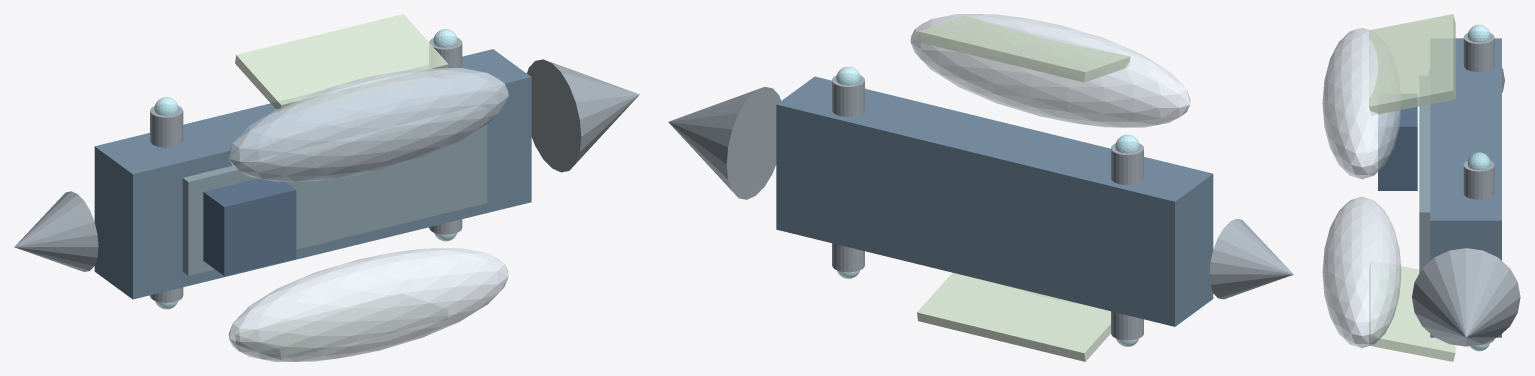
The model's file is SKYSHIP_01_WISP_RUNNER_wisp_runner.glb.
3 views of the same model, side by side, from view 1: azimuth 30°, elevation 25°; view 2: azimuth 150°, elevation 25°; view 3: azimuth 270°, elevation 25° (orthographic). The views are drawn at different scales.
Visible parts, largest first — view 1: aetherwood_hull, upper_deck, left_aether_cell, right_aether_cell, right_lift_sail, command_cabin, forward_ram, left_lift_sail, stern_finial, right_thruster_-0.52, right_thruster_0.52; view 2: aetherwood_hull, right_aether_cell, left_lift_sail, forward_ram, right_lift_sail, stern_finial, right_thruster_0.52, right_thruster_-0.52, left_thruster_-0.52, left_thruster_0.52; view 3: aetherwood_hull, left_aether_cell, forward_ram, right_aether_cell, right_lift_sail, left_lift_sail, command_cabin, upper_deck, right_thruster_0.52, right_thruster_-0.52, right_thruster_glow_-0.52, right_thruster_glow_0.52.
Boxes of the visible parts, left/top/right/bottom form: aetherwood_hull: left=94, top=49, right=531, bottom=299; upper_deck: left=182, top=105, right=487, bottom=275; left_aether_cell: left=228, top=248, right=508, bottom=361; right_aether_cell: left=228, top=68, right=508, bottom=181; right_lift_sail: left=235, top=14, right=448, bottom=113; command_cabin: left=203, top=175, right=296, bottom=275; forward_ram: left=527, top=59, right=639, bottom=172; left_lift_sail: left=235, top=294, right=447, bottom=359; stern_finial: left=14, top=191, right=98, bottom=271; right_thruster_-0.52: left=150, top=104, right=183, bottom=147; right_thruster_0.52: left=429, top=36, right=462, bottom=79; aetherwood_hull: left=776, top=76, right=1213, bottom=326; right_aether_cell: left=910, top=14, right=1190, bottom=127; left_lift_sail: left=917, top=272, right=1110, bottom=361; forward_ram: left=668, top=87, right=780, bottom=199; right_lift_sail: left=917, top=16, right=1130, bottom=82; stern_finial: left=1209, top=218, right=1293, bottom=299; right_thruster_0.52: left=832, top=73, right=864, bottom=116; right_thruster_-0.52: left=1111, top=142, right=1143, bottom=185; left_thruster_-0.52: left=1111, top=311, right=1143, bottom=340; left_thruster_0.52: left=832, top=243, right=864, bottom=272; aetherwood_hull: left=1430, top=38, right=1501, bottom=337; left_aether_cell: left=1322, top=196, right=1401, bottom=347; forward_ram: left=1412, top=248, right=1520, bottom=346; right_aether_cell: left=1322, top=28, right=1400, bottom=179; right_lift_sail: left=1369, top=14, right=1455, bottom=115; left_lift_sail: left=1369, top=260, right=1455, bottom=361; command_cabin: left=1378, top=94, right=1417, bottom=190; upper_deck: left=1419, top=76, right=1430, bottom=272; right_thruster_0.52: left=1463, top=159, right=1494, bottom=199; right_thruster_-0.52: left=1463, top=31, right=1494, bottom=71; right_thruster_glow_-0.52: left=1467, top=24, right=1490, bottom=42; right_thruster_glow_0.52: left=1467, top=152, right=1490, bottom=169.
Size of the model in its own units: 2.36 by 1.04 by 0.689.
